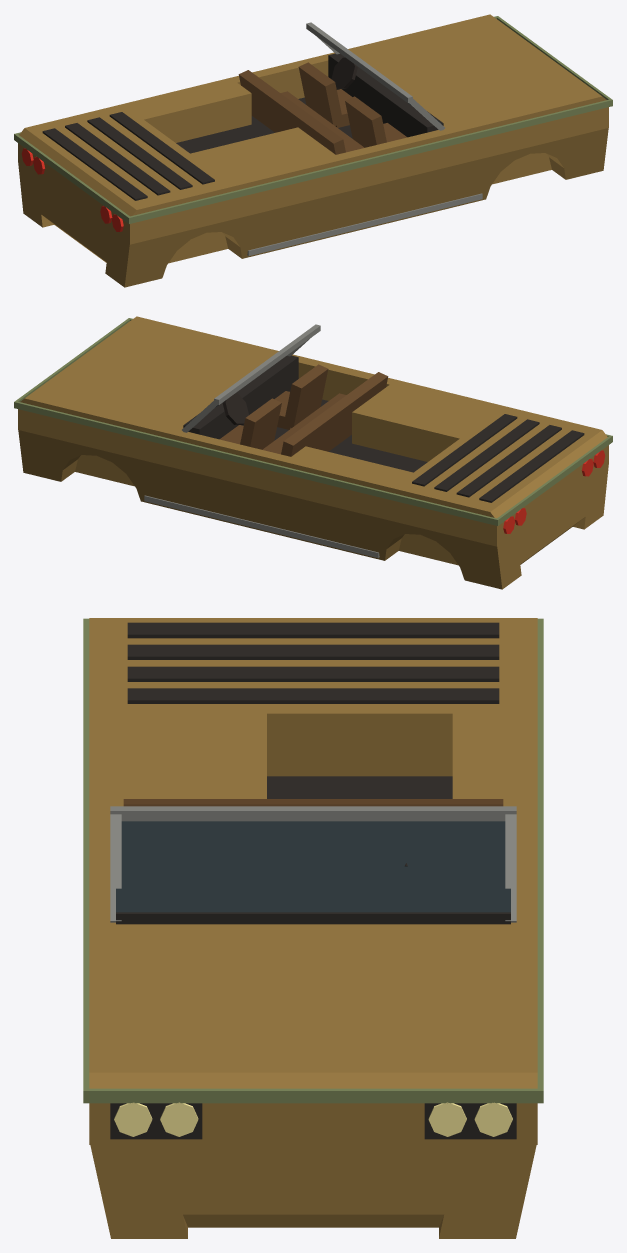
File: base_convertible.glb
3 views of the same model, one above another, from view 1: azimuth 30°, elevation 25°; view 2: azimuth 150°, elevation 25°; view 3: azimuth 270°, elevation 25° (orthographic). The views are drawn at different scales.
Parts seen in each view (by area): view 1: base_convertible; view 2: base_convertible; view 3: base_convertible.
Boxes of the visible parts, left/top/right/bottom form: base_convertible: left=14, top=14, right=612, bottom=287; base_convertible: left=14, top=316, right=612, bottom=589; base_convertible: left=83, top=618, right=543, bottom=1238.
Size of the model in its own units: 5.83 by 1.39 by 2.4.
